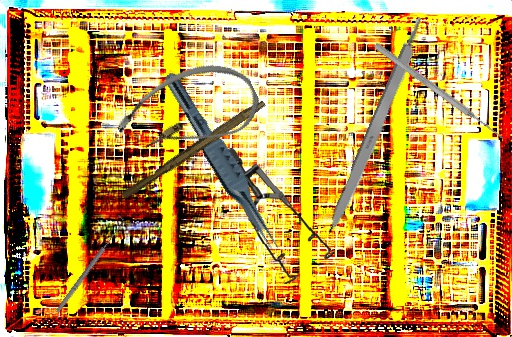Cannula: (107, 46, 269, 180)
Hook Surgical: (51, 214, 128, 315)
Pusher: (372, 41, 507, 143)
Scalpel Handle: (324, 15, 431, 237), (120, 95, 267, 203)
Speculum: (227, 143, 336, 287)
Tissue Forceps: (152, 69, 291, 256)
